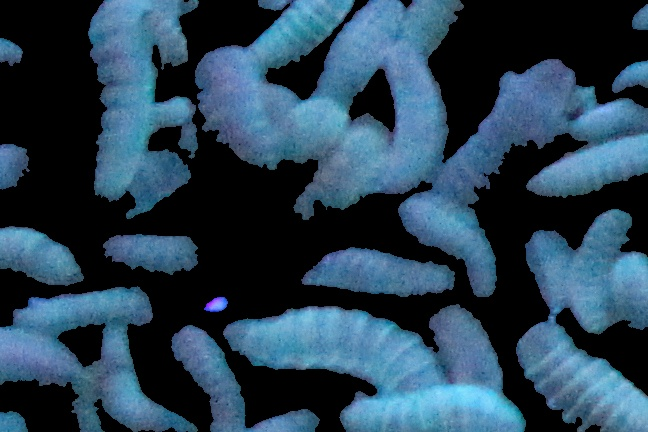larvae: (442, 59, 570, 205), (230, 304, 442, 391), (88, 1, 157, 216), (192, 47, 287, 190), (524, 322, 648, 427), (289, 117, 383, 243), (399, 195, 503, 302), (382, 53, 456, 188), (565, 207, 641, 336), (101, 327, 192, 432), (340, 386, 534, 432), (535, 122, 648, 197), (242, 1, 358, 71), (320, 1, 398, 104), (173, 326, 248, 432), (94, 233, 223, 291), (391, 1, 518, 57), (428, 303, 510, 387), (16, 283, 155, 332), (513, 222, 580, 312), (310, 257, 453, 298), (1, 222, 82, 288), (574, 100, 648, 141), (149, 97, 199, 129)
